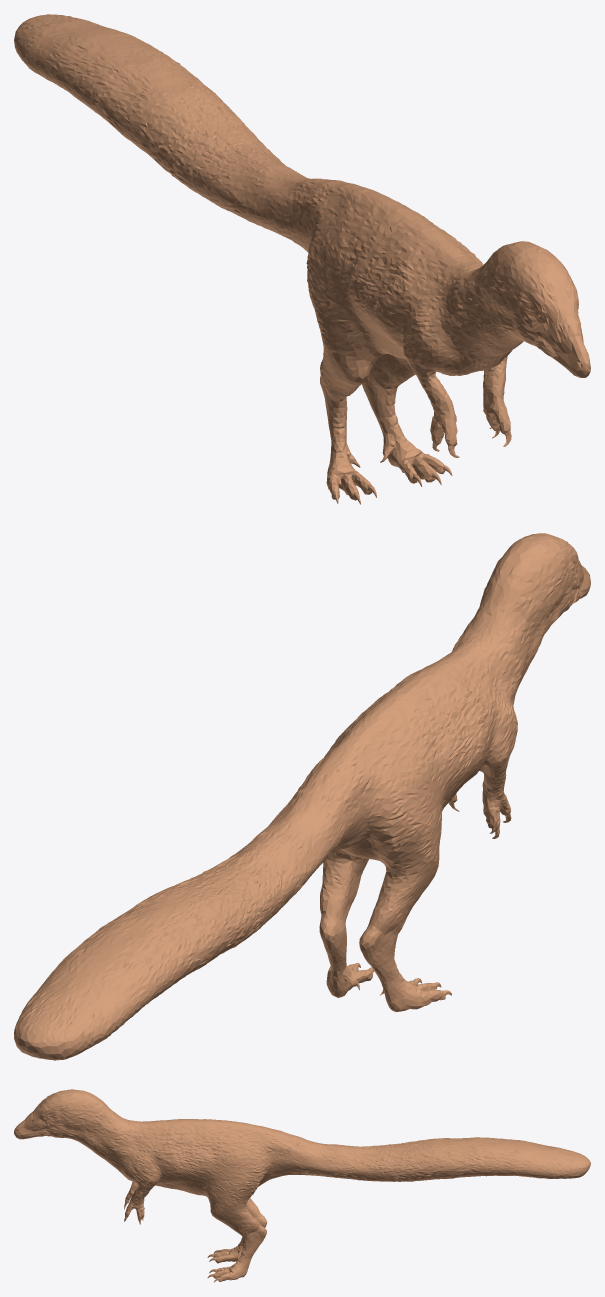
File: sinosauropteryx.glb
The picture shows the model from 3 angles, top to bottom: view 1: azimuth 30°, elevation 25°; view 2: azimuth 150°, elevation 25°; view 3: azimuth 270°, elevation 25°; orthographic projection. The views are drawn at different scales.
Visible parts, largest first — view 1: model; view 2: model; view 3: model.
Part boxes in pixels (x1,y1,x2,y2): model: (14,14,590,504); model: (14,533,590,1060); model: (14,1089,590,1282).
Size of the model in its own units: 17.98 by 51.5 by 151.
